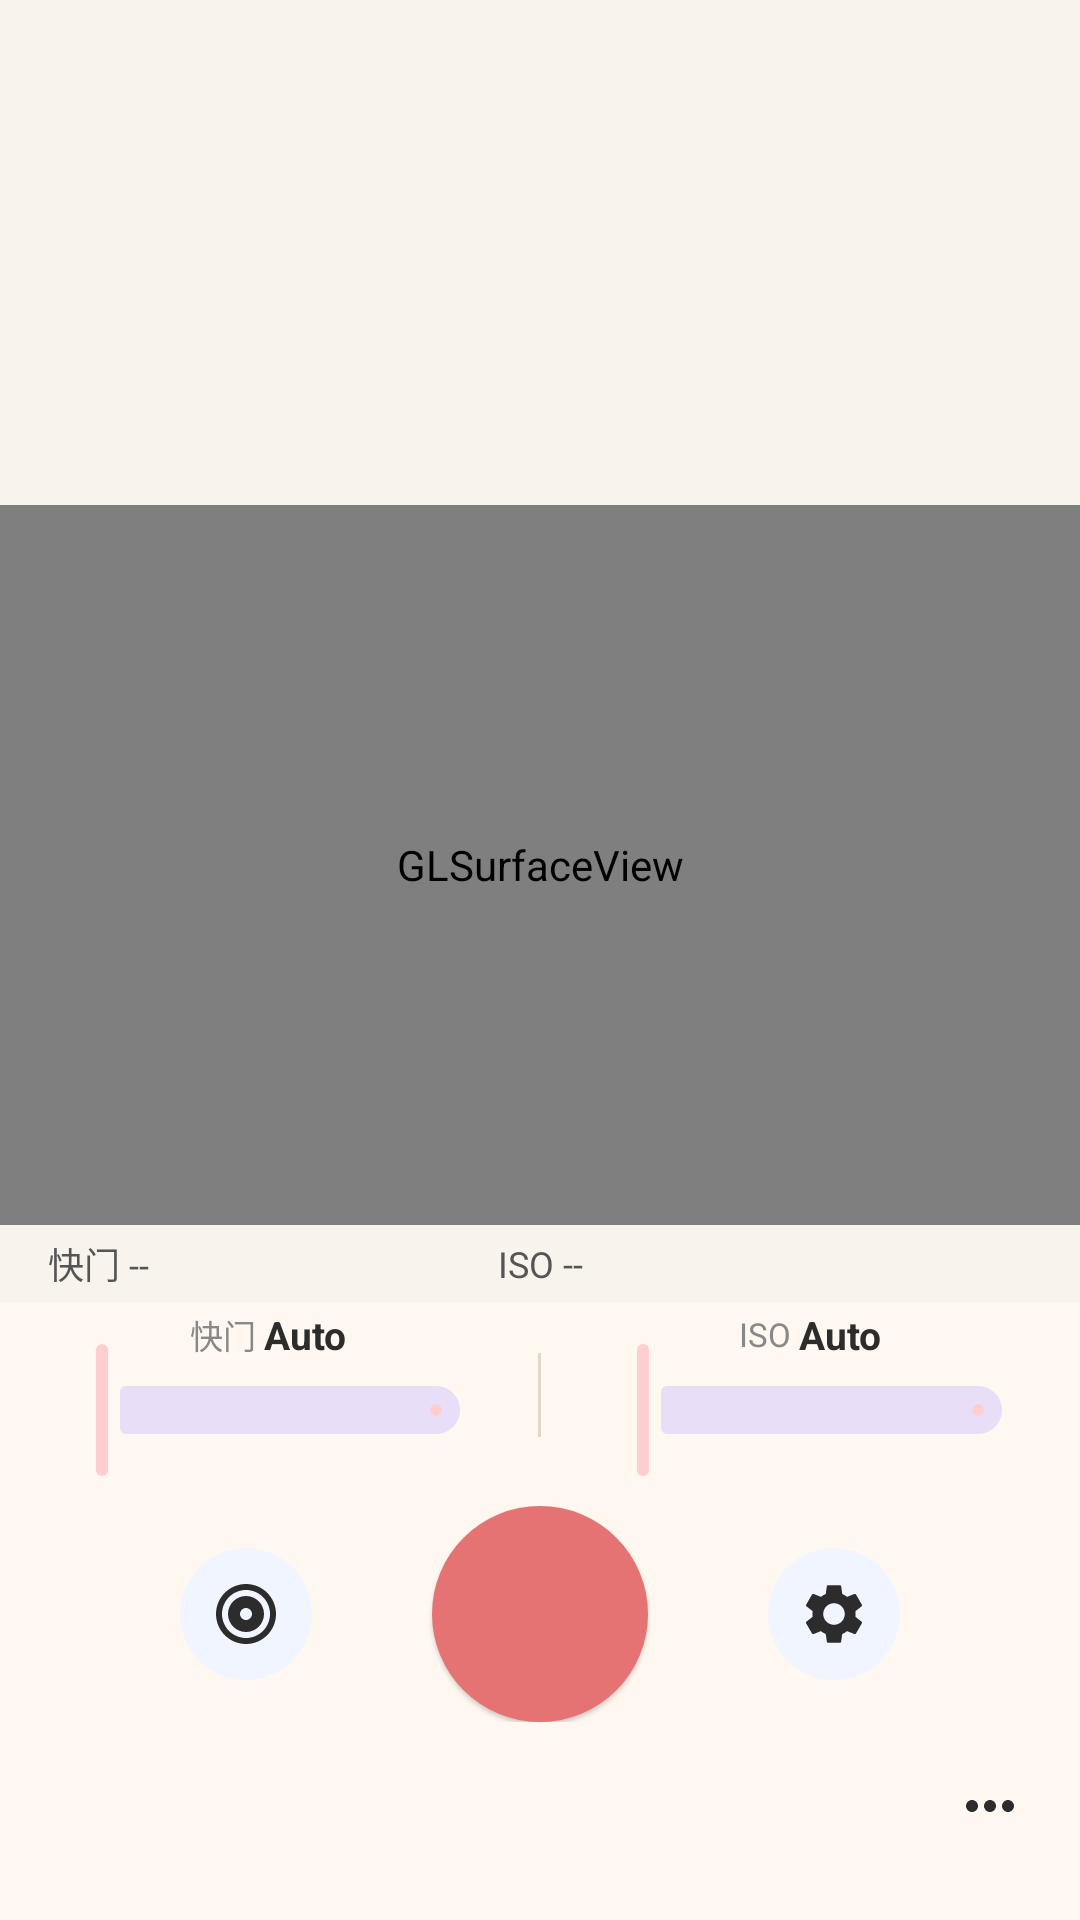

Icon bounding boxes for this 1080x1920 phone screenshot, format (x1, y1, x2, y2):
设置: (806, 1585, 862, 1643)
